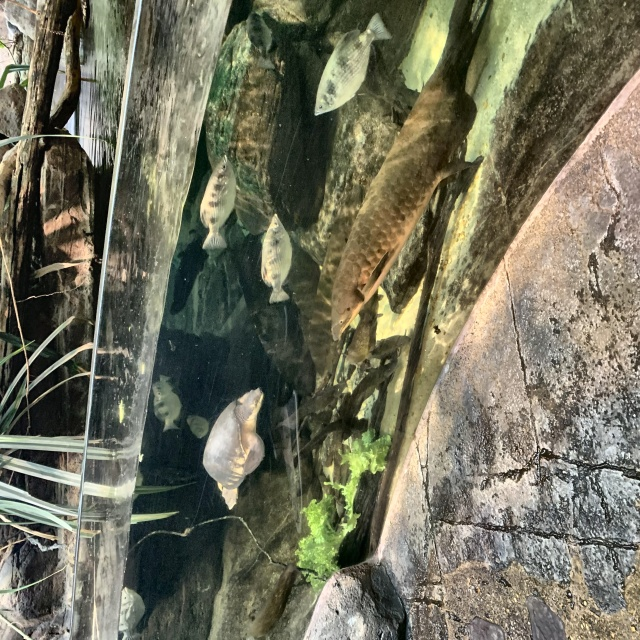fish: (328, 1, 484, 346), (314, 13, 393, 116), (197, 154, 237, 250), (260, 212, 295, 304), (153, 377, 182, 433)
